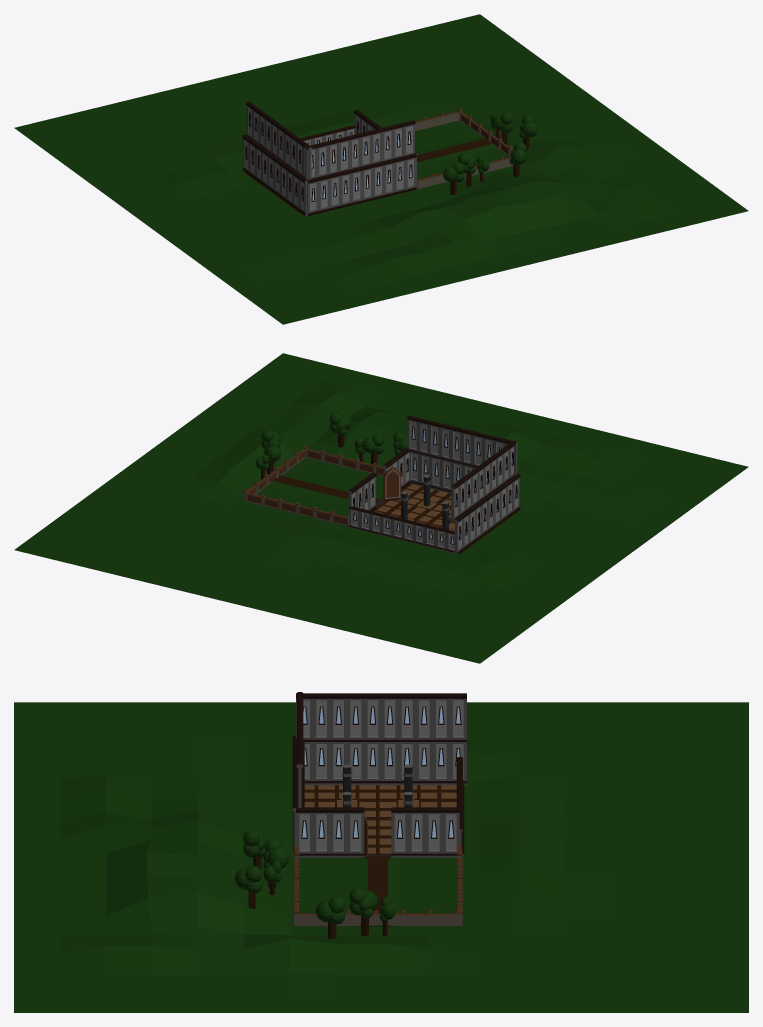
File: GraveyardLevel.fbx
3 renders of one model, top to bottom at view 1: azimuth 30°, elevation 25°; view 2: azimuth 150°, elevation 25°; view 3: azimuth 270°, elevation 25°, orthographic. The views are drawn at different scales.
Visible parts, largest first — view 1: Plane, Cube.006, Cube.007, Cube, Cube.005, Cube.008, Cube.001, Cube.002, Cube.010; view 2: Plane, Cube, Cube.007, Cube.005, Cube.010, Cube.008, Cube.006, Cube.003, Cube.009, Cube.002, Cube.001, Cube.004 (+1 smaller); view 3: Plane, Cube, Cube.008, Cube.005, Cube.009, Cube.004, Cube.001, Cube.007, Cube.017, Cube.016, Cube.015, Cube.010 (+3 smaller).
Part boxes in pixels (x1,y1,x2,y2): Plane: (14,14,748,324); Cube.006: (307,153,416,215); Cube.007: (304,120,415,179); Cube: (244,120,508,216); Cube.005: (242,134,307,215); Cube.008: (246,101,312,179); Cube.001: (458,109,513,157); Cube.002: (417,156,513,188); Cube.010: (300,125,356,145); Plane: (14,353,748,663); Cube: (255,457,520,553); Cube.007: (407,415,517,475); Cube.005: (453,473,520,554); Cube.010: (348,506,454,552); Cube.008: (449,440,516,521); Cube.006: (409,453,518,493); Cube.003: (243,490,348,525); Cube.009: (347,472,376,525); Cube.002: (303,446,383,476); Cube.001: (244,449,305,494); Cube.004: (381,447,410,499); Plane: (14,702,748,1012); Cube: (296,764,459,926); Cube.008: (296,693,466,743); Cube.005: (304,744,466,785); Cube.009: (391,807,459,857); Cube.004: (296,807,364,857); Cube.001: (296,910,460,926); Cube.007: (296,692,304,807); Cube.017: (349,887,378,935); Cube.016: (315,896,345,938); Cube.015: (234,865,262,908); Cube.010: (456,757,464,856).
Bounding box in the file's own units: 21500 × 3081 × 21500.
